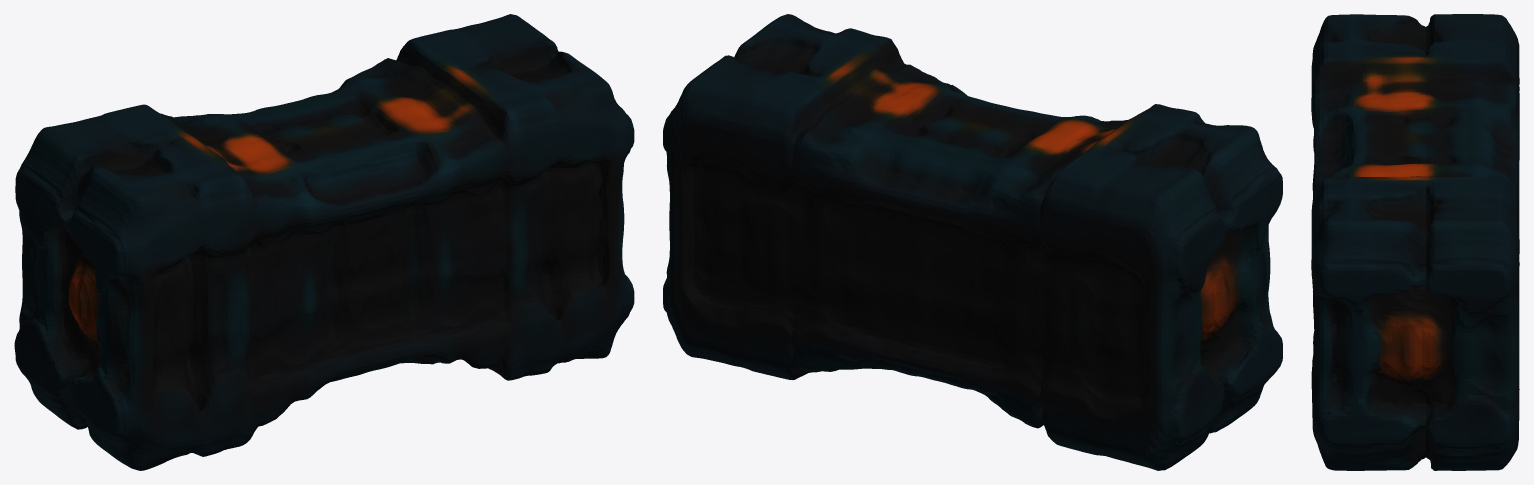
File: gen_model.obj
3 views of the same model, side by side, from view 1: azimuth 30°, elevation 25°; view 2: azimuth 150°, elevation 25°; view 3: azimuth 270°, elevation 25° (orthographic). The views are drawn at different scales.
Bounding box in the file's own units: 1.98 × 1.01 × 0.761.
